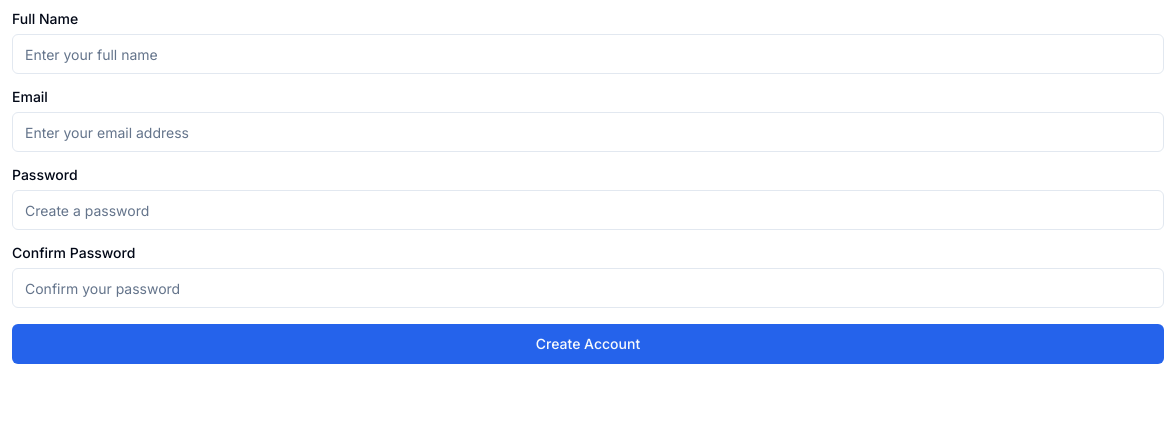
Test case: RegistrationForm › should show validation error for weak password
Note: Fill form with weak password
Type "John Doe" into the field labelled "Full Name" at (588, 54), box top-left (12, 34), bottom-right (1164, 74)
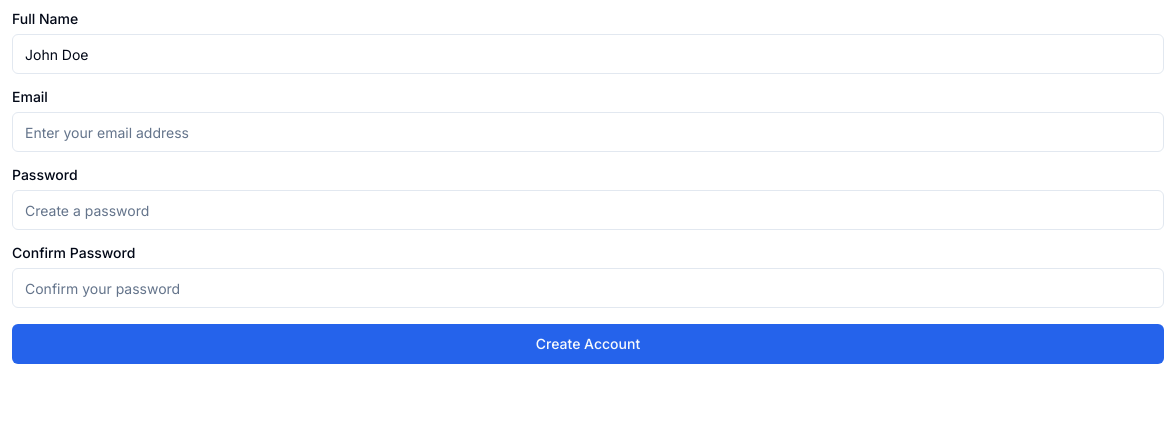
Type "john@example.com" into the field labelled "Email" at (588, 132), box top-left (12, 112), bottom-right (1164, 152)
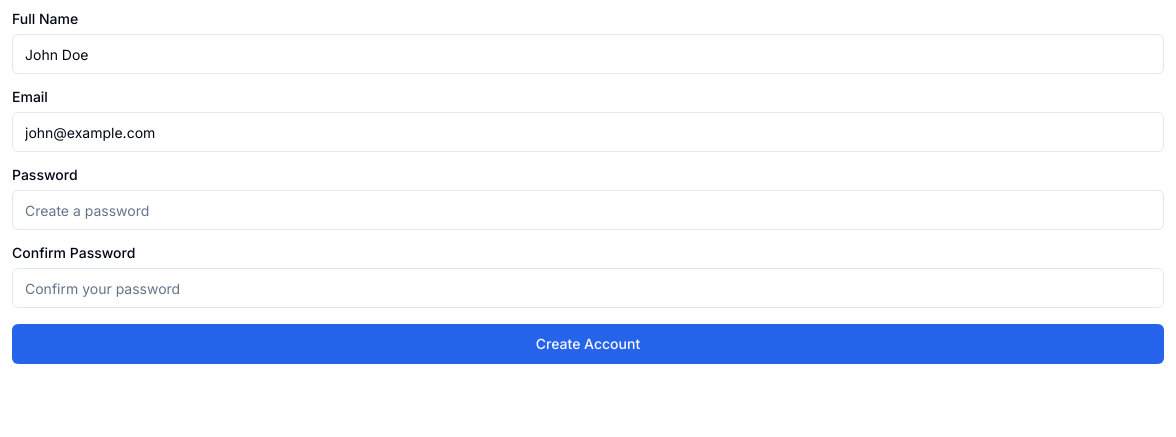
Type "weakpass" into the password field labelled "Password" at (588, 210), box top-left (12, 190), bottom-right (1164, 230)
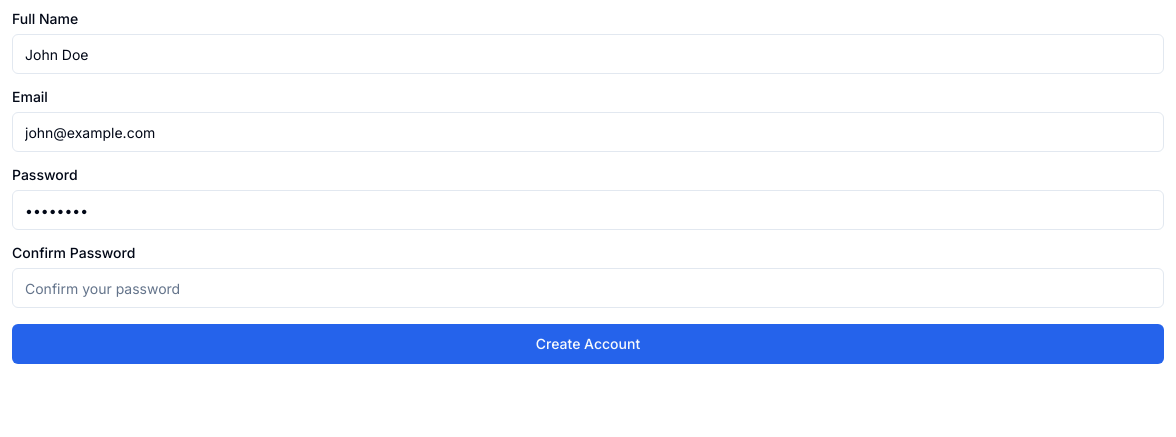
Click the button "Create Account" at (588, 344), box top-left (12, 324), bottom-right (1164, 364)
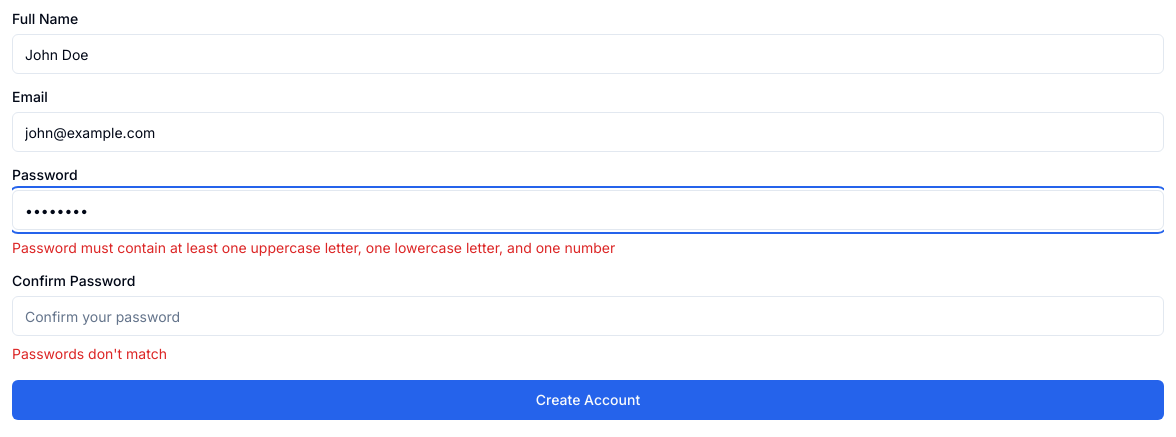
Expected: the text "Password must contain at least one uppercase letter" is shown, top-left (12, 239), bottom-right (615, 256)
